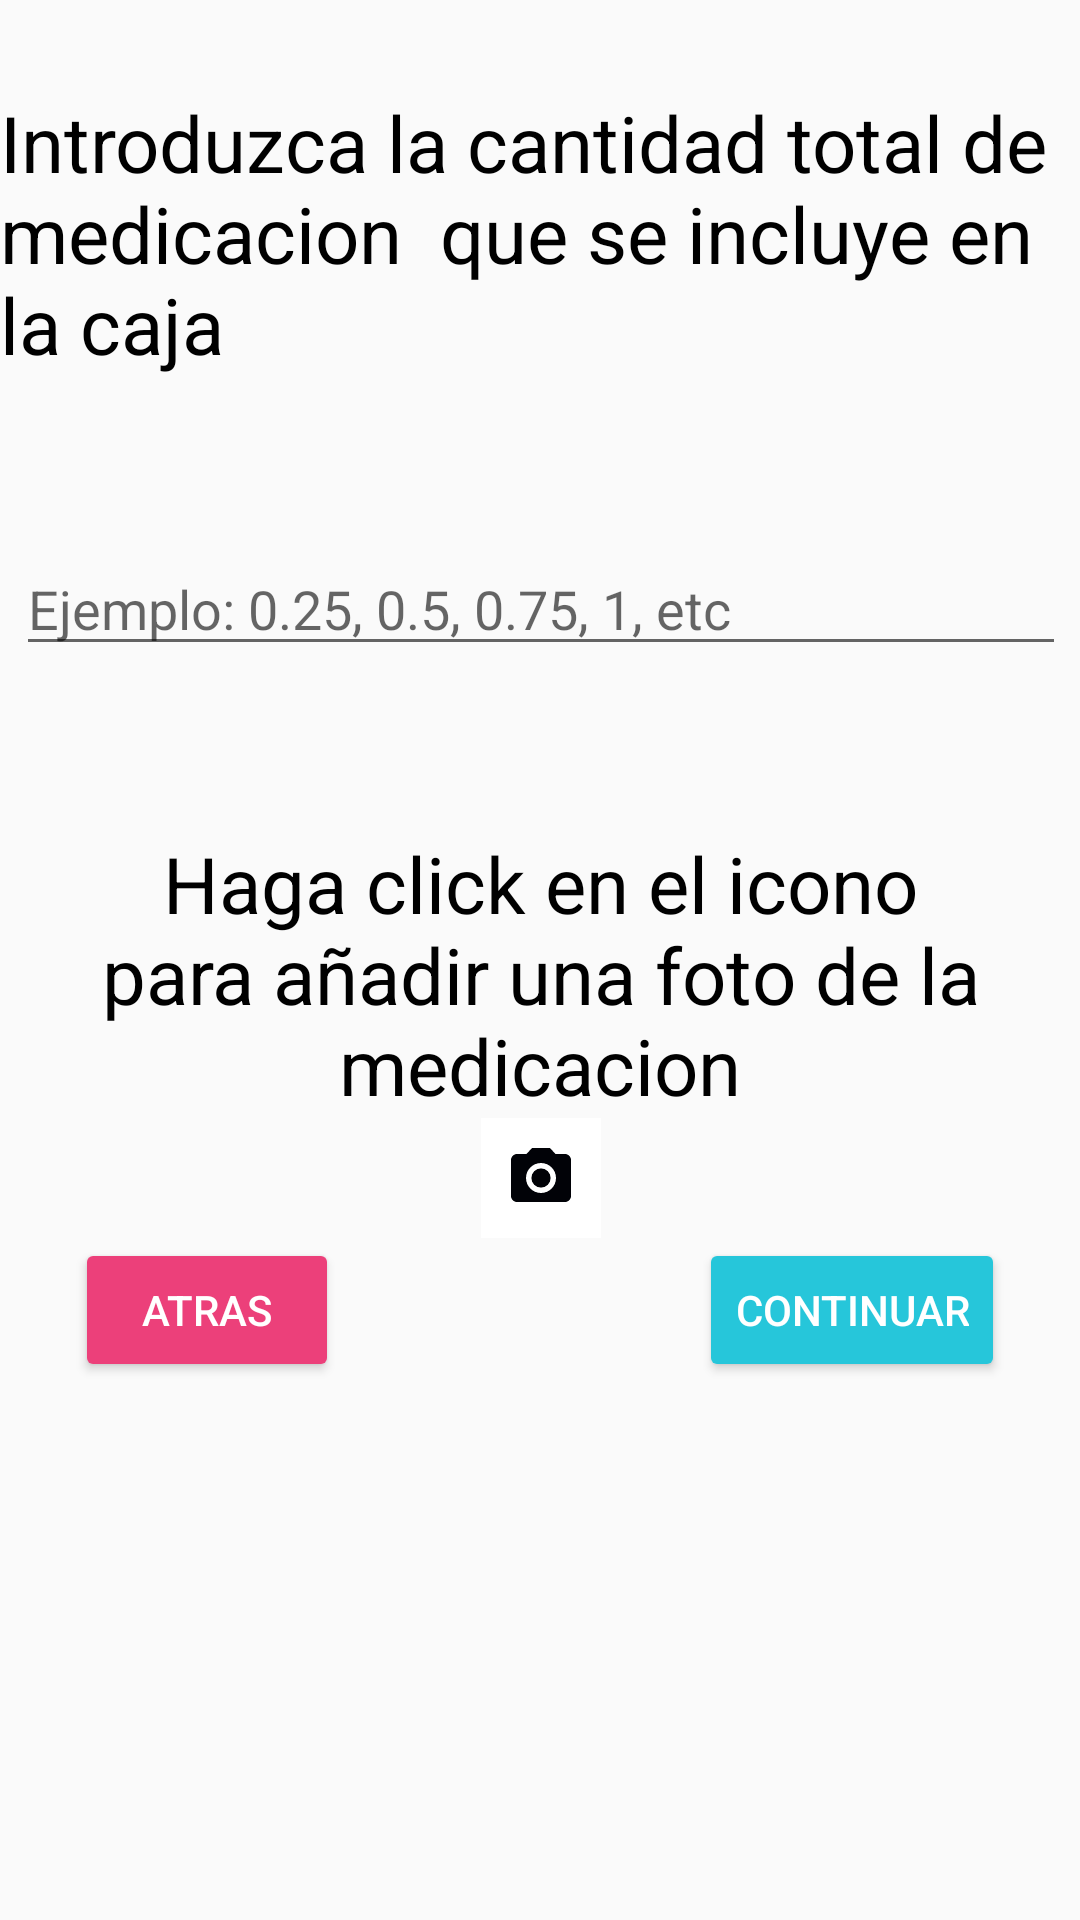

Where icons sit on this 1080 × 1920 app screen, as (x1, y1, x2, y2):
camera: (511, 1148, 571, 1202)
